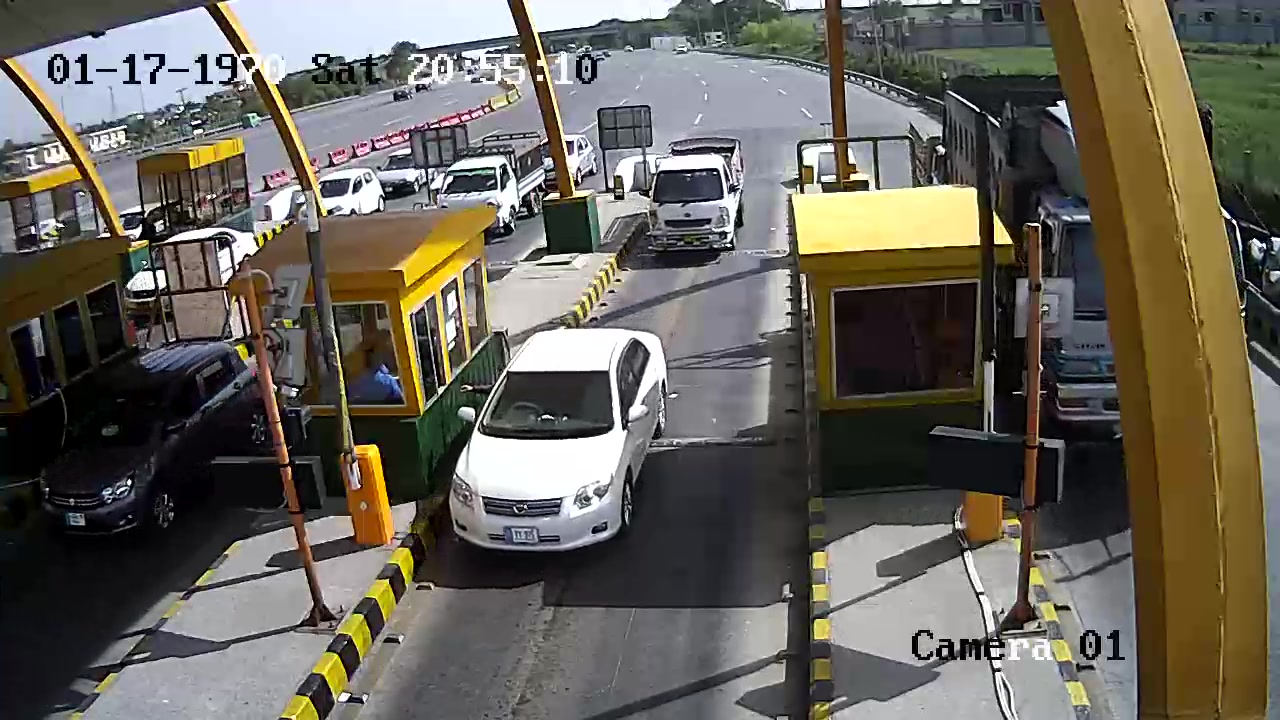F1: (442, 317, 680, 558)
